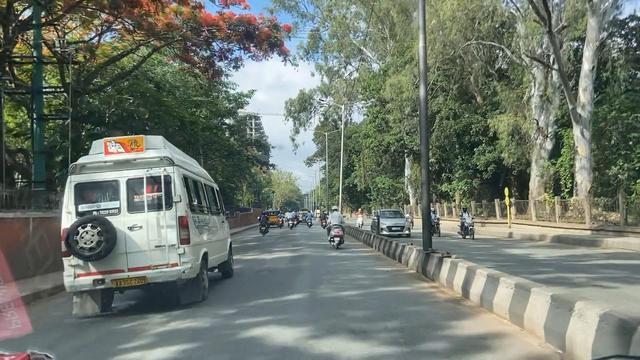HMV: (61, 153, 199, 314)
LMV: (329, 210, 348, 248), (283, 203, 294, 231), (259, 209, 266, 237)
